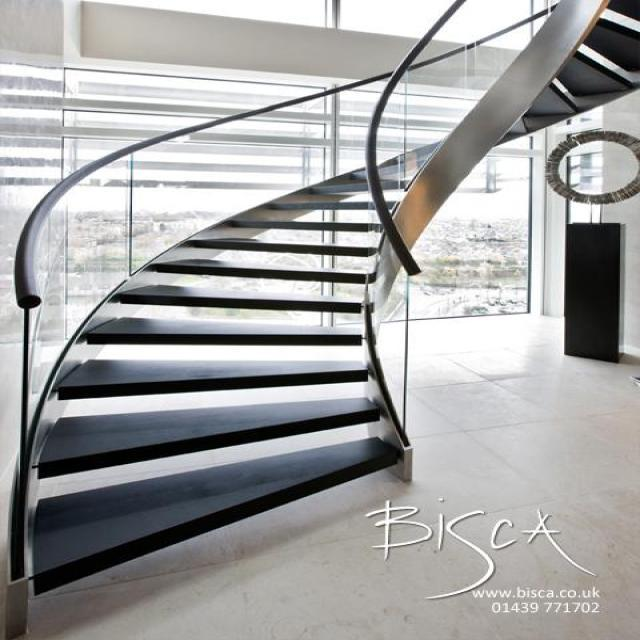Stairs: (24, 62, 468, 557)
